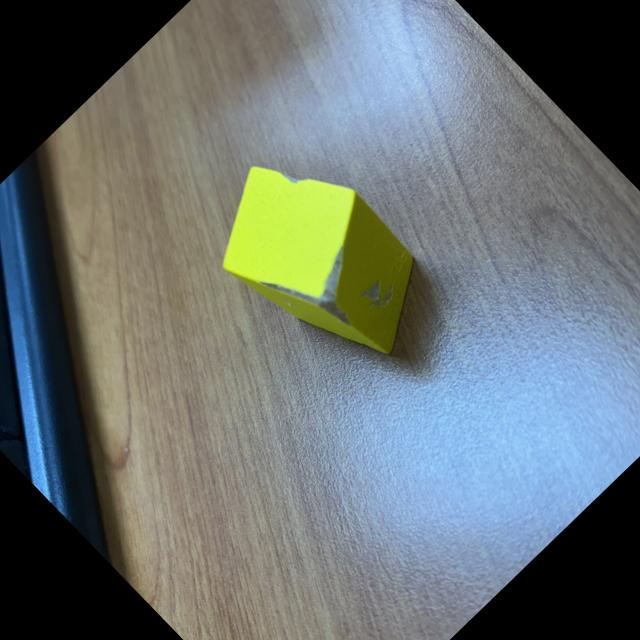broken: (185, 125, 456, 398)
